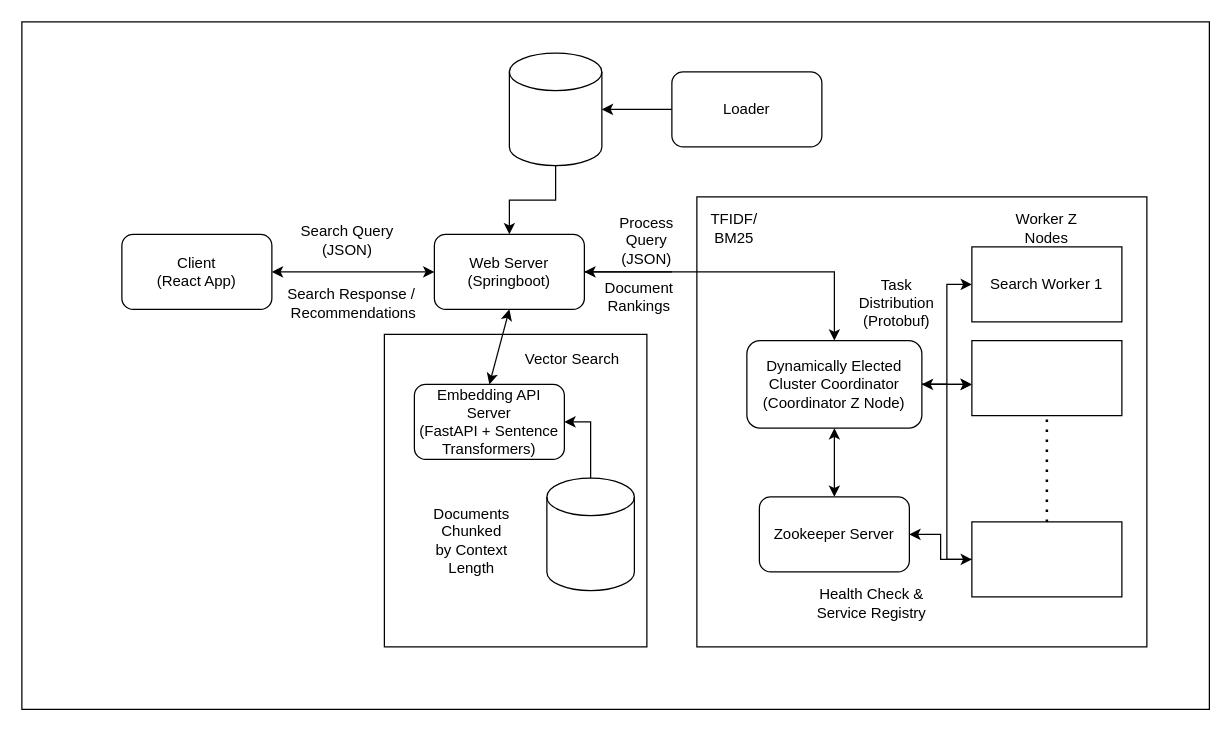
This 1231x731 diagram has some shape labels left out. Here are the shapes that lost their labels. From the top down, the centre of each, then its label:
At point (555, 109): "Arxiv Papers (Postgres)".
At point (1046, 377): "Search Worker 2".
At point (590, 534): "Document Embeddings Table (pgVector)".
At point (1046, 559): "Search Worker N".
